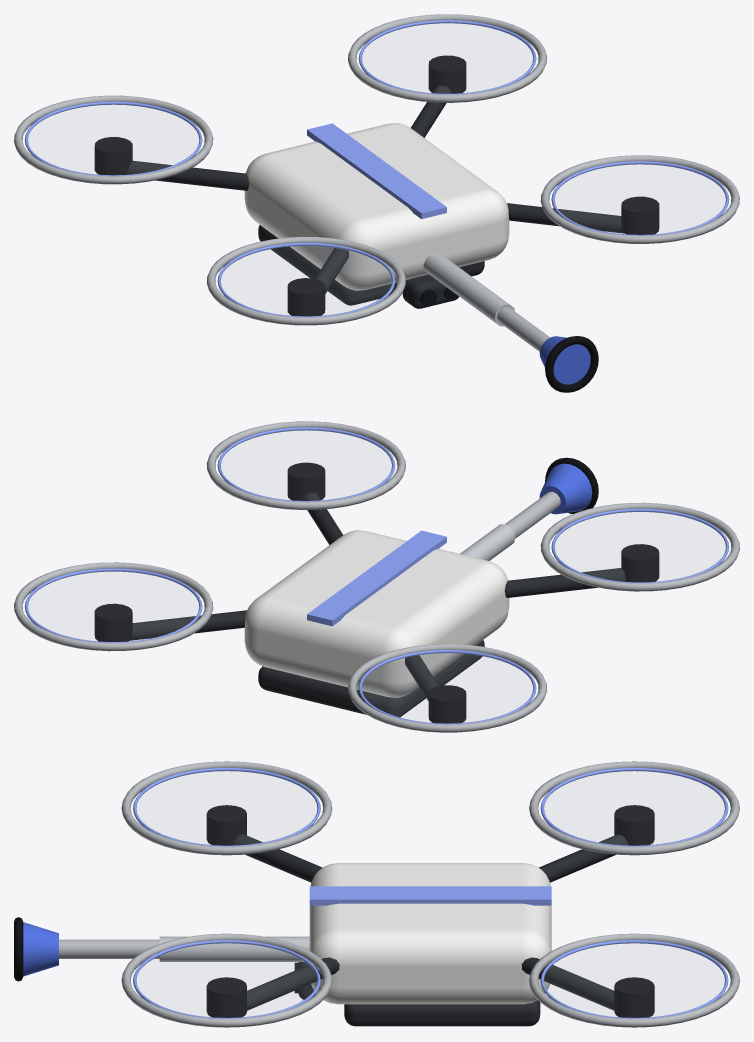
The model's file is pickerDrone.glb.
3 views of the same model, one above another, from view 1: azimuth 30°, elevation 25°; view 2: azimuth 150°, elevation 25°; view 3: azimuth 270°, elevation 25° (orthographic). The views are drawn at different scales.
Parts seen in each view (by area): view 1: shell, disc3, disc1, disc2, disc0, guard0, guard2, guard1, guard3, stripe, armTube0, battery (+12 smaller); view 2: shell, disc3, disc0, disc1, disc2, battery, guard0, guard1, guard3, guard2, stripe, cup (+11 smaller); view 3: shell, disc3, disc2, disc0, disc1, battery, stripe, guard0, guard1, guard3, guard2, armTube0 (+11 smaller).
Boxes of the visible parts, left/top/right/bottom form: shell: left=244, top=123, right=509, bottom=290; disc3: left=217, top=242, right=395, bottom=317; disc1: left=358, top=20, right=536, bottom=94; disc2: left=25, top=101, right=202, bottom=176; disc0: left=551, top=161, right=729, bottom=235; guard0: left=540, top=155, right=739, bottom=243; guard2: left=14, top=95, right=213, bottom=184; guard1: left=348, top=14, right=547, bottom=102; guard3: left=207, top=236, right=405, bottom=325; stripe: left=307, top=123, right=446, bottom=219; armTube0: left=423, top=252, right=514, bottom=326; battery: left=258, top=225, right=484, bottom=305; shell: left=244, top=530, right=509, bottom=697; disc3: left=551, top=508, right=729, bottom=583; disc0: left=217, top=427, right=395, bottom=501; disc1: left=24, top=568, right=202, bottom=642; disc2: left=358, top=649, right=536, bottom=724; battery: left=258, top=640, right=484, bottom=717; guard0: left=206, top=421, right=405, bottom=509; guard1: left=14, top=562, right=213, bottom=651; guard3: left=540, top=502, right=739, bottom=591; guard2: left=348, top=644, right=547, bottom=732; stripe: left=307, top=530, right=446, bottom=626; cup: left=539, top=463, right=592, bottom=514; shell: left=309, top=863, right=551, bottom=1004; disc3: left=133, top=767, right=320, bottom=846; disc2: left=540, top=767, right=728, bottom=846; disc0: left=133, top=940, right=320, bottom=1018; disc1: left=540, top=940, right=728, bottom=1018; battery: left=344, top=1000, right=540, bottom=1026; stripe: left=309, top=886, right=551, bottom=905; guard0: left=121, top=933, right=332, bottom=1027; guard1: left=529, top=933, right=739, bottom=1027; guard3: left=121, top=761, right=332, bottom=855; guard2: left=529, top=761, right=739, bottom=855; armTube0: left=159, top=936, right=309, bottom=961.
Bounding box in the file's own units: 1.07 × 0.198 × 1.26.
